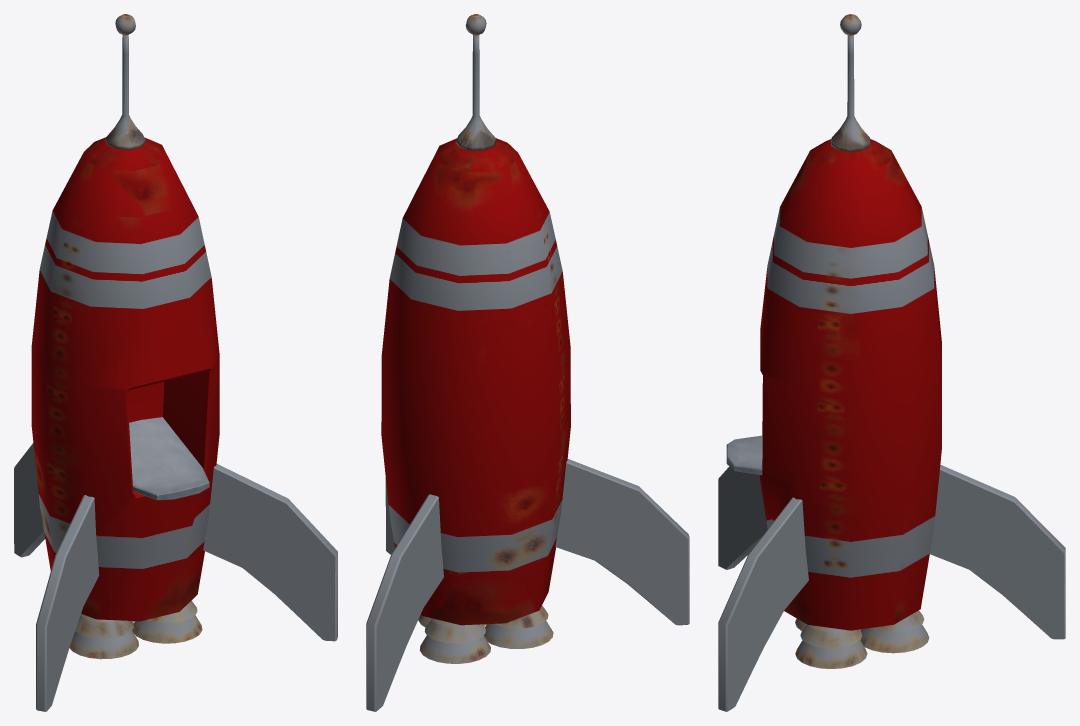
The model's file is rocketred.fbx.
3 renders of one model, left to right at view 1: azimuth 30°, elevation 25°; view 2: azimuth 150°, elevation 25°; view 3: azimuth 270°, elevation 25°, orthographic.
Visible parts, largest first — view 1: polySurface6; view 2: polySurface6; view 3: polySurface6.
Boxes of the visible parts, x1=… form: polySurface6: x1=14, y1=14, x2=337, y2=711; polySurface6: x1=366, y1=14, x2=689, y2=711; polySurface6: x1=718, y1=14, x2=1065, y2=711.
Bounding box in the file's own units: 5.2 × 10.15 × 5.13.
